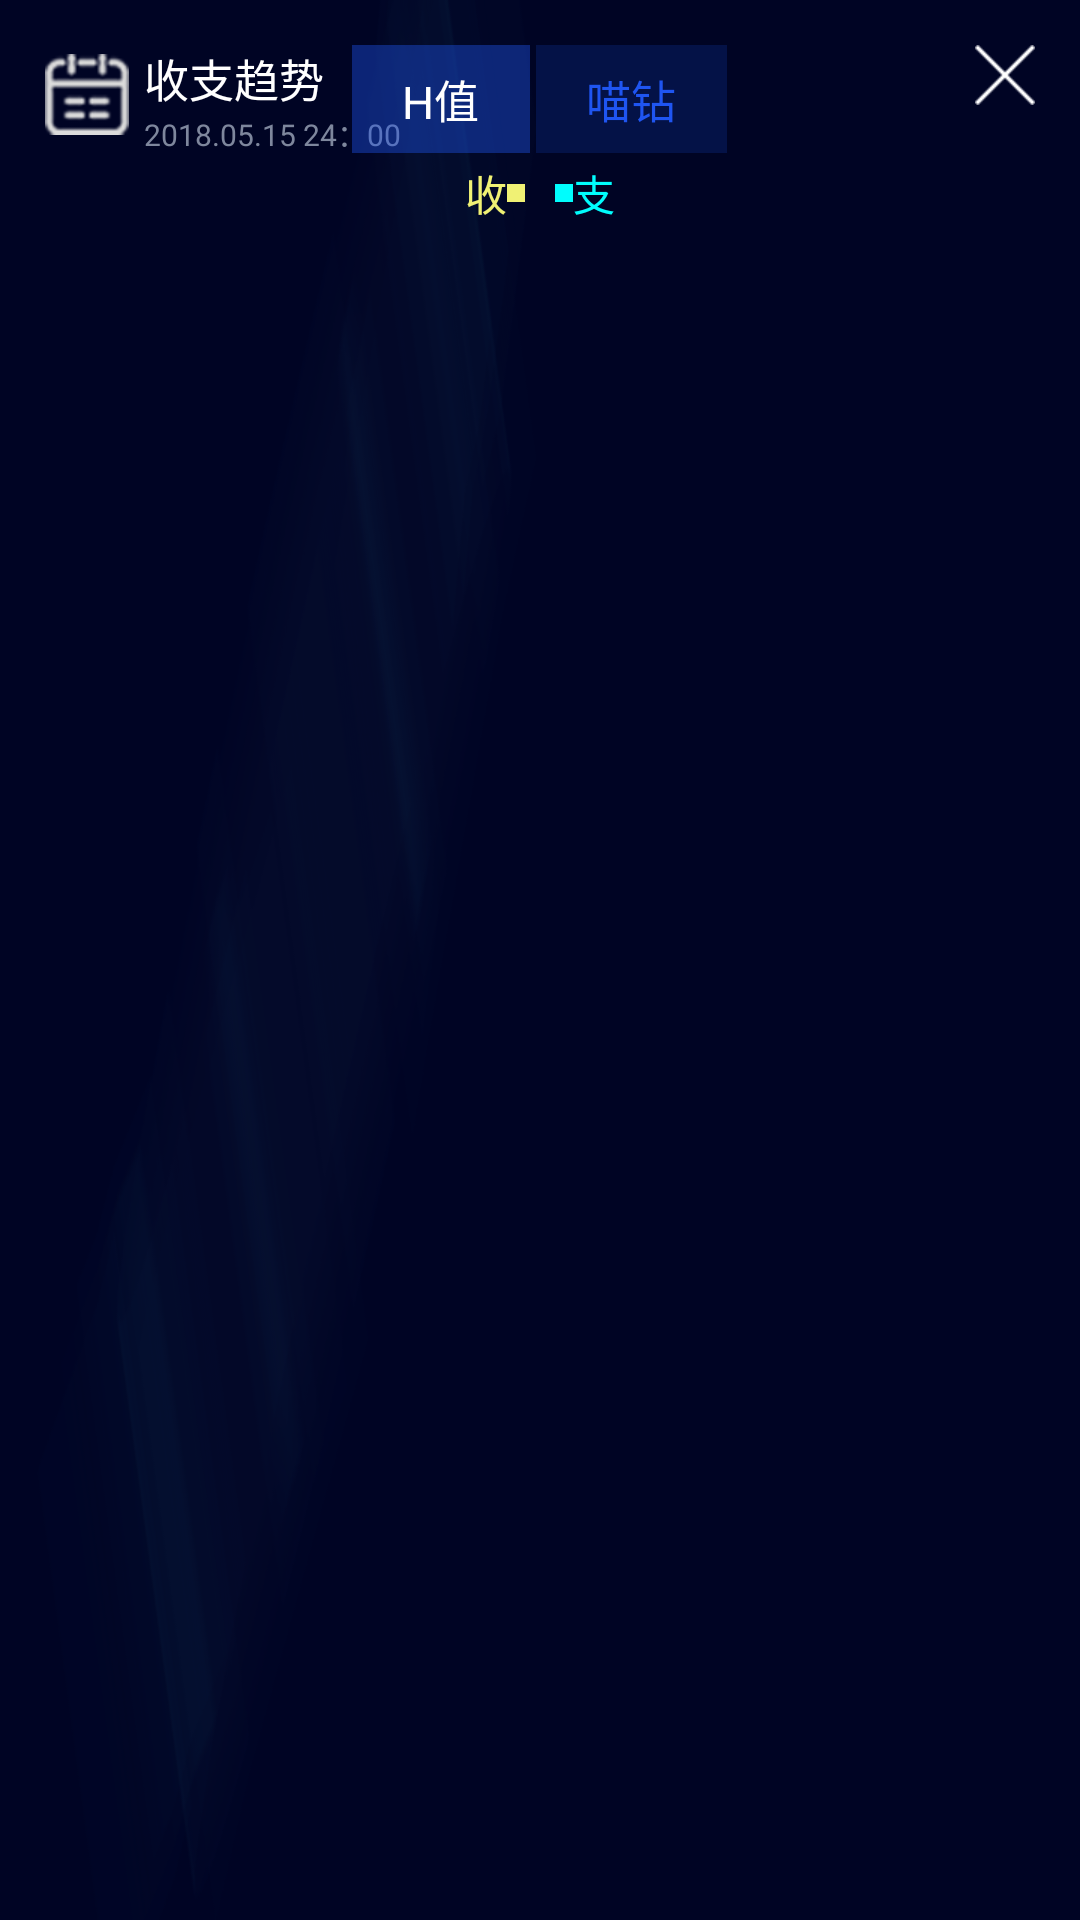

Icons on this 1080*1920 Android screen, each with the point to tap as point (x, y):
land record cal: point (87, 94)
land record close: point (1005, 75)
